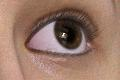eye: (55, 21, 80, 48)
